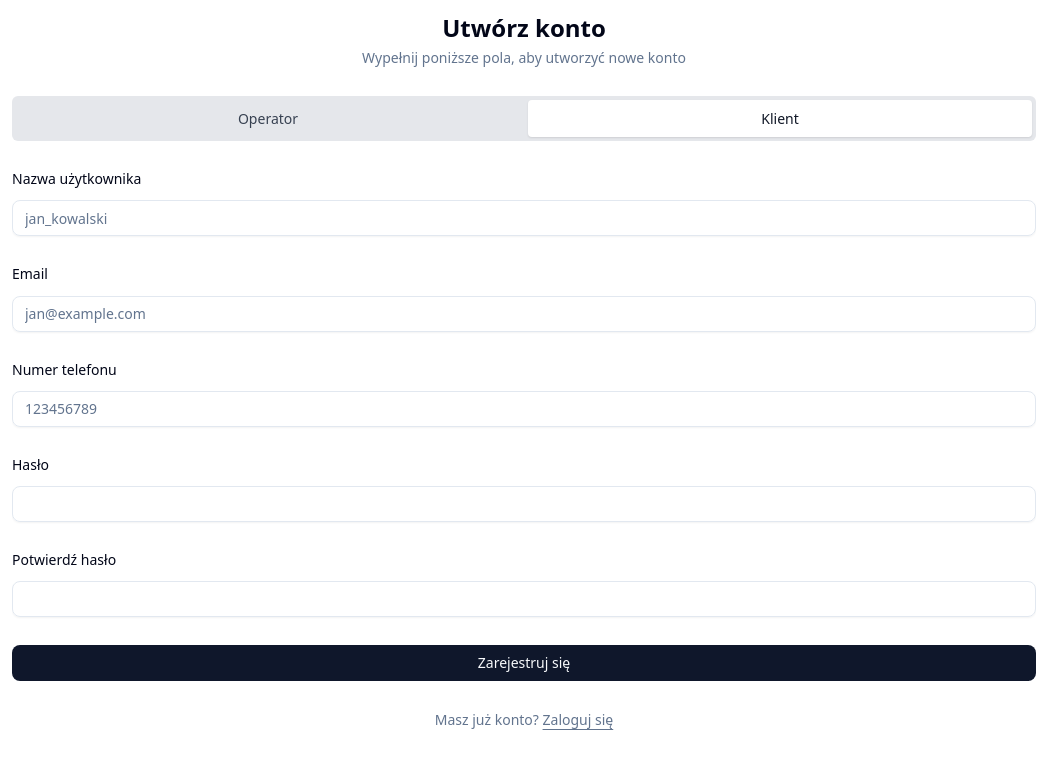
Scenario: RegisterForm › validates password match
In the password field labelled "Hasło": (524, 504) [12,486,1036,522], type "password123"
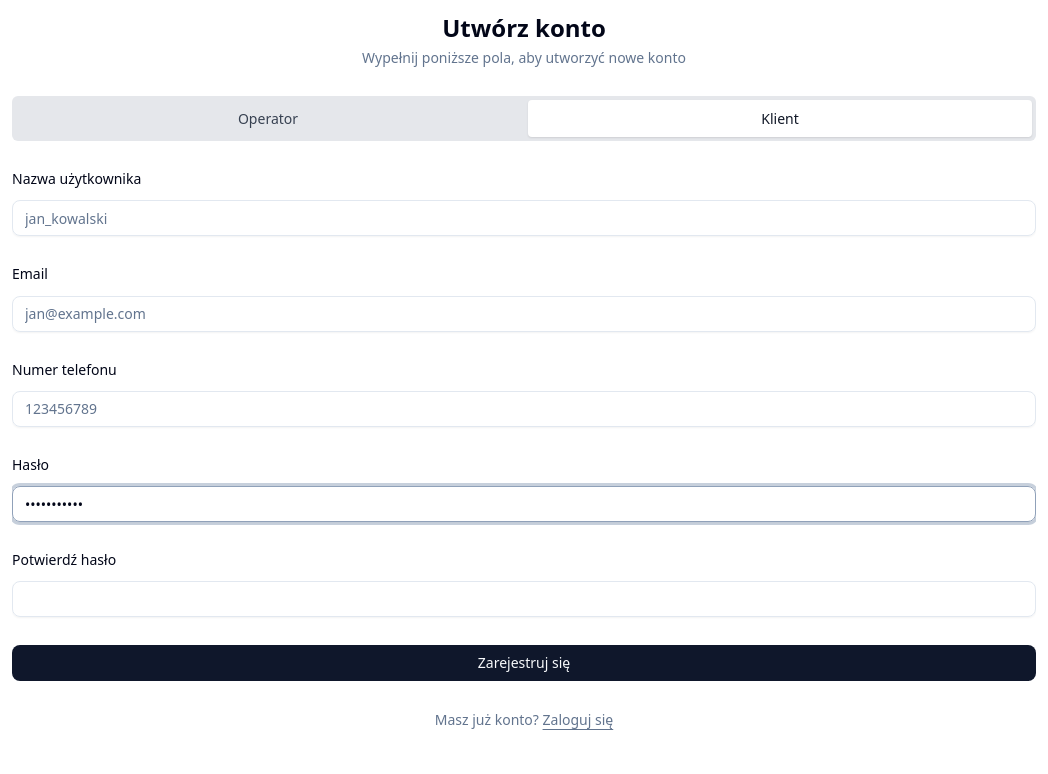
In the password field labelled "Potwierdź hasło": (524, 599) [12,581,1036,617], type "mismatch123"
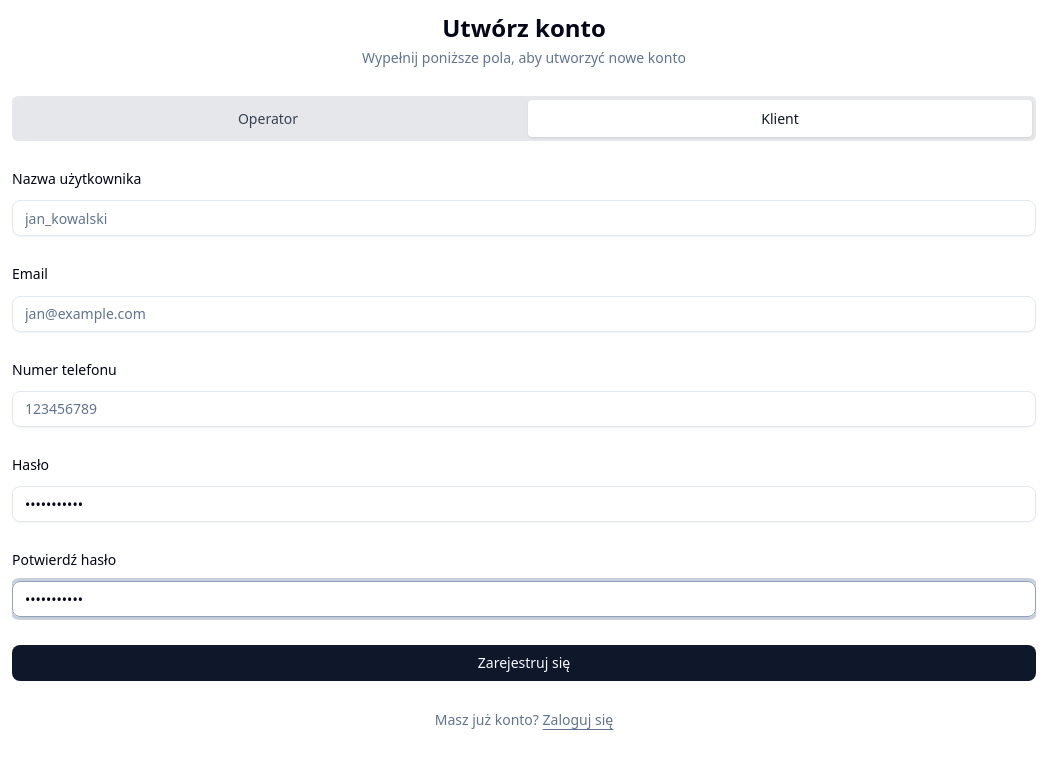
Click the button "Zarejestruj się": (524, 663) [12,645,1036,681]
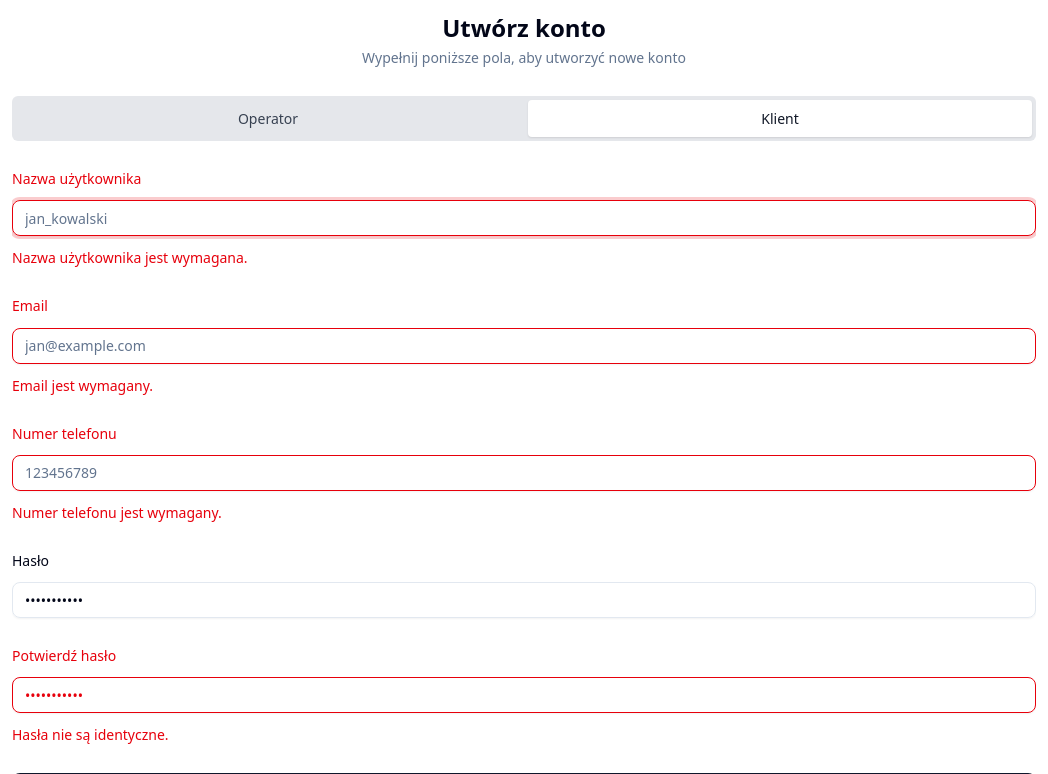
Expected: the text "Hasła nie są identyczne." is shown, [12,725,169,744]
